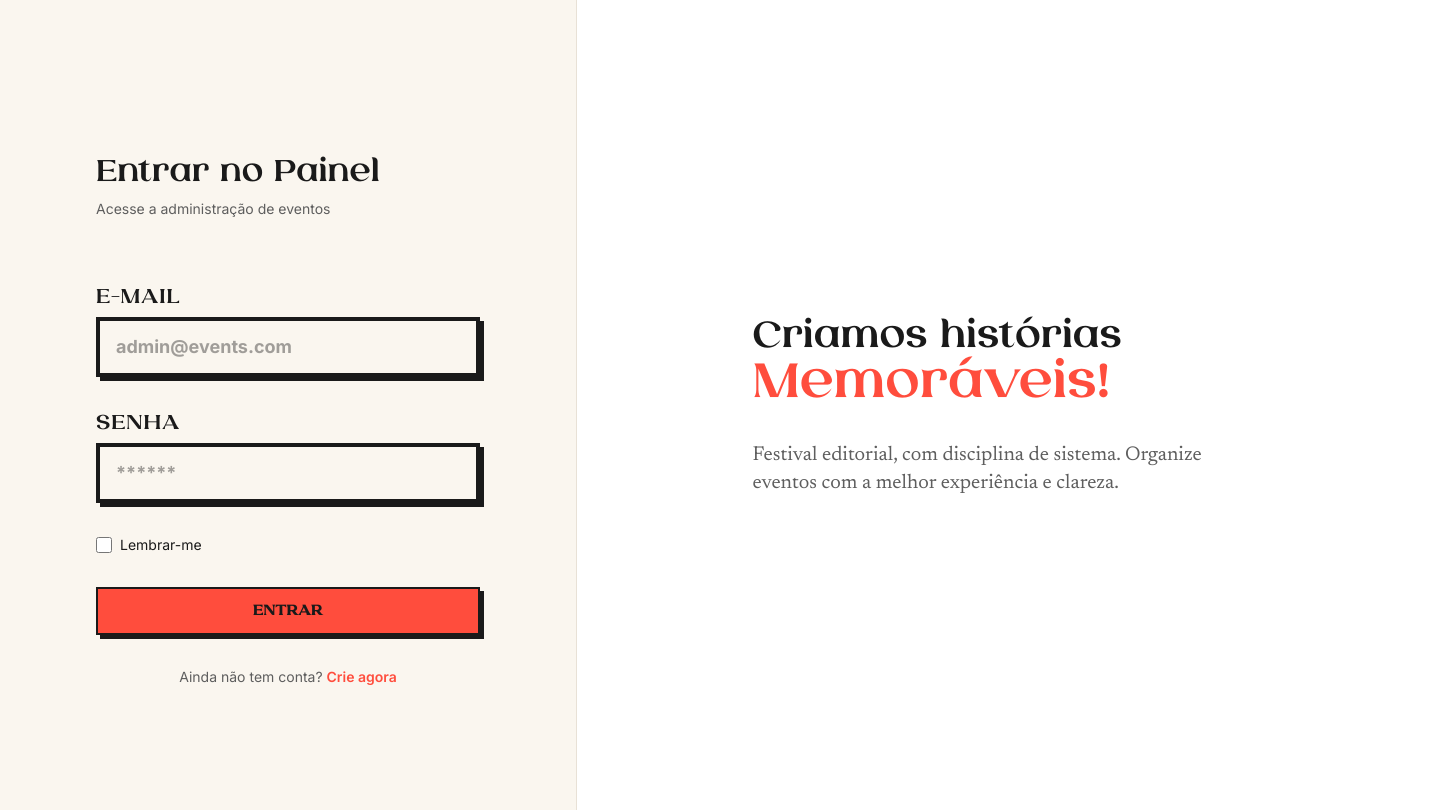
Login page › exibe erros de validação para senha curta
This screenshot has width=1440, height=810.
In the field labelled "E-mail": (288,347) [96,317,480,377], type "user@test.com"
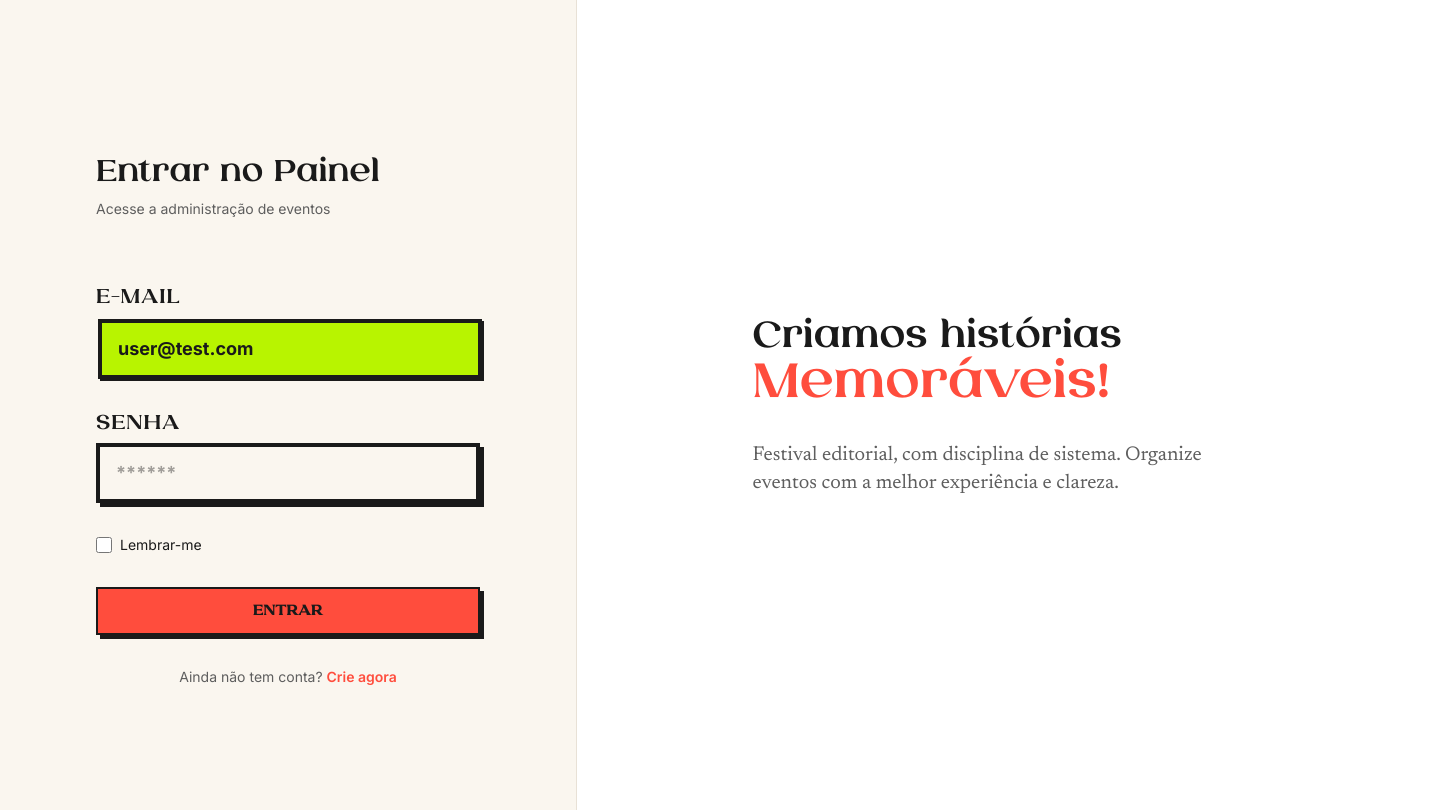
In the password field labelled "Senha": (288,473) [96,443,480,503], type "123"
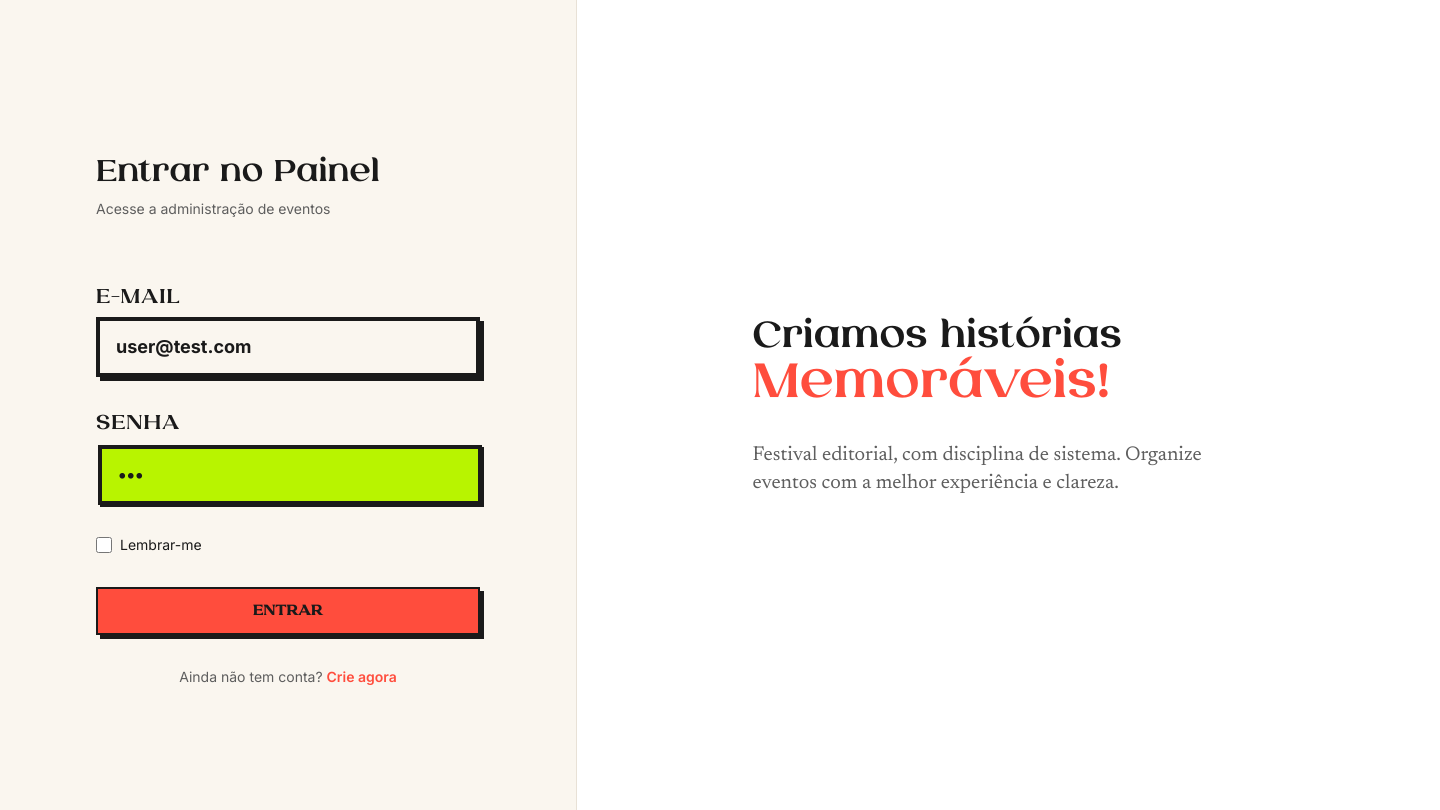
Click the button "Entrar": (288,611) [96,587,480,635]
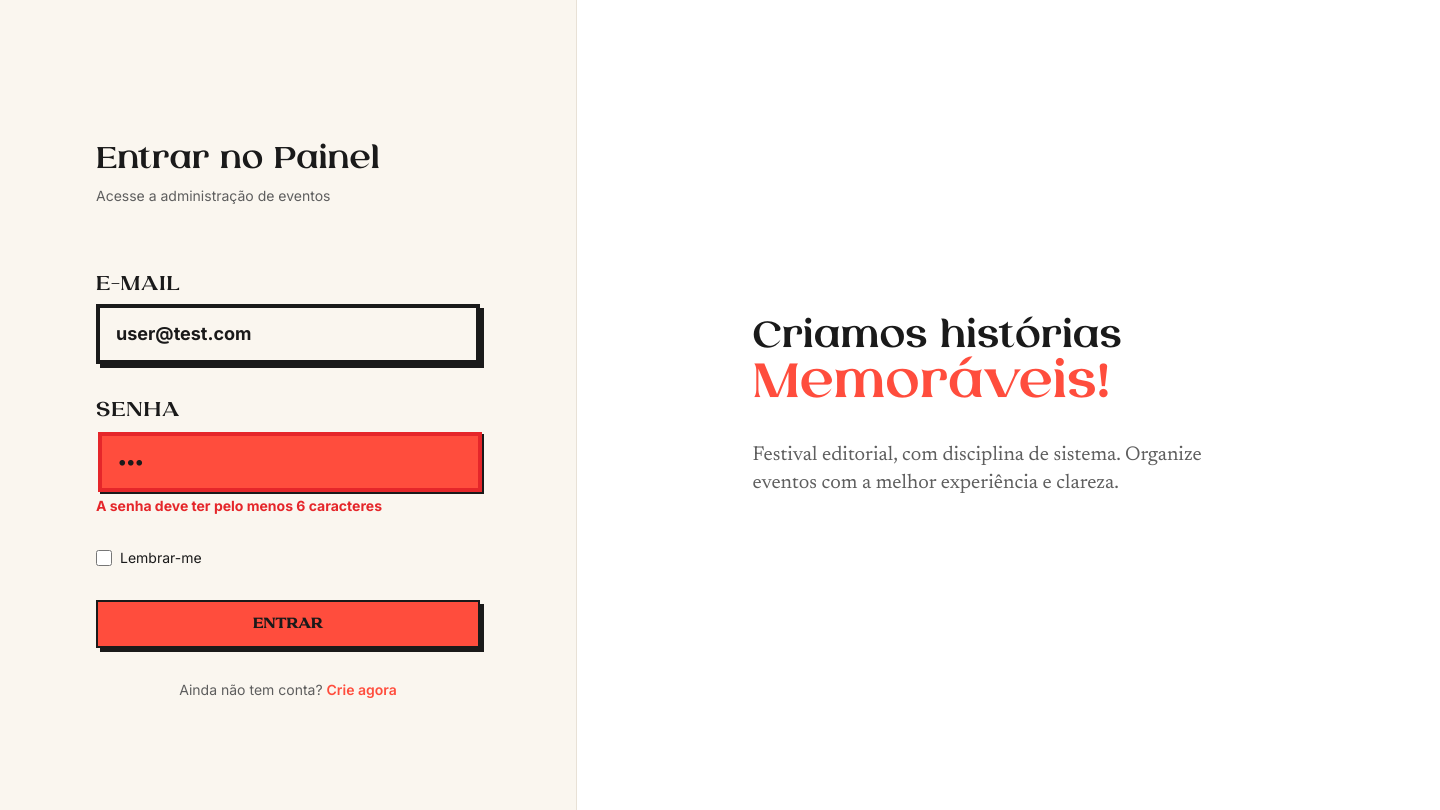
Expected: the text "A senha deve ter pelo menos 6 caracteres" is shown, [96,497,382,514]
